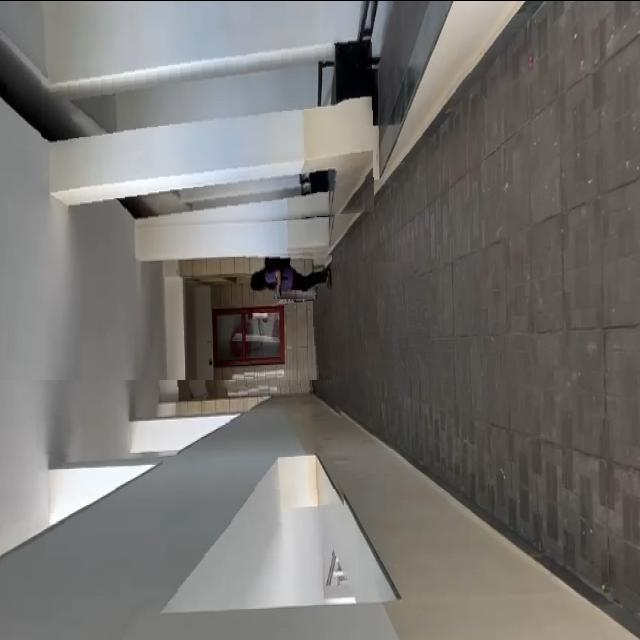floor: (433, 72, 640, 488), (313, 261, 426, 394)
moving_object: (239, 246, 332, 298)
wall: (0, 379, 348, 640), (41, 0, 374, 240)
